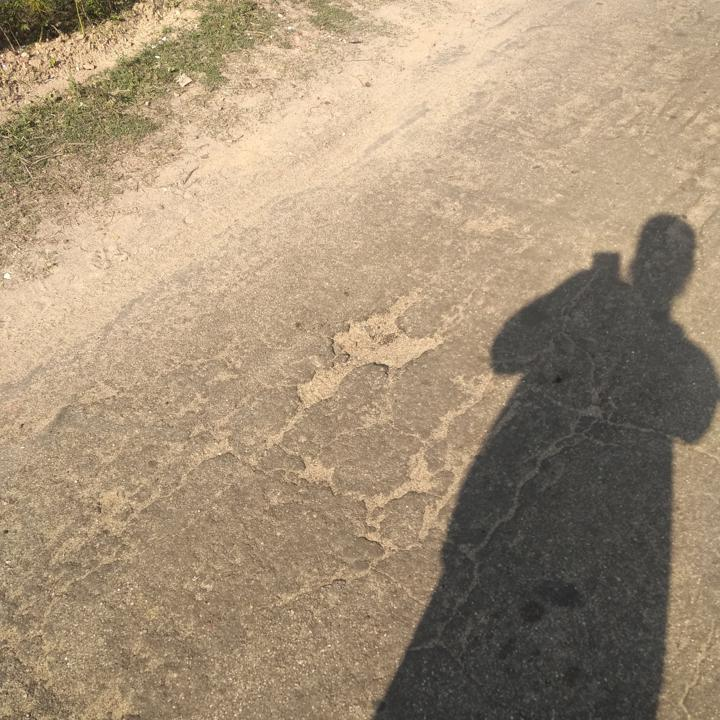pothole: (293, 296, 444, 409), (297, 453, 340, 490)
